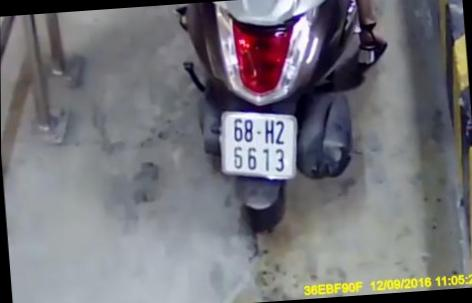LP: (215, 104, 303, 186)
